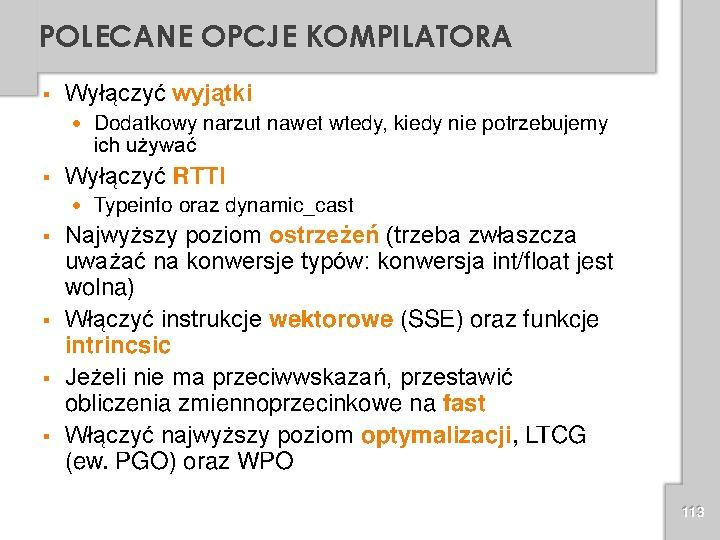paragraph: (23, 73, 634, 482)
title: (29, 11, 530, 65)
